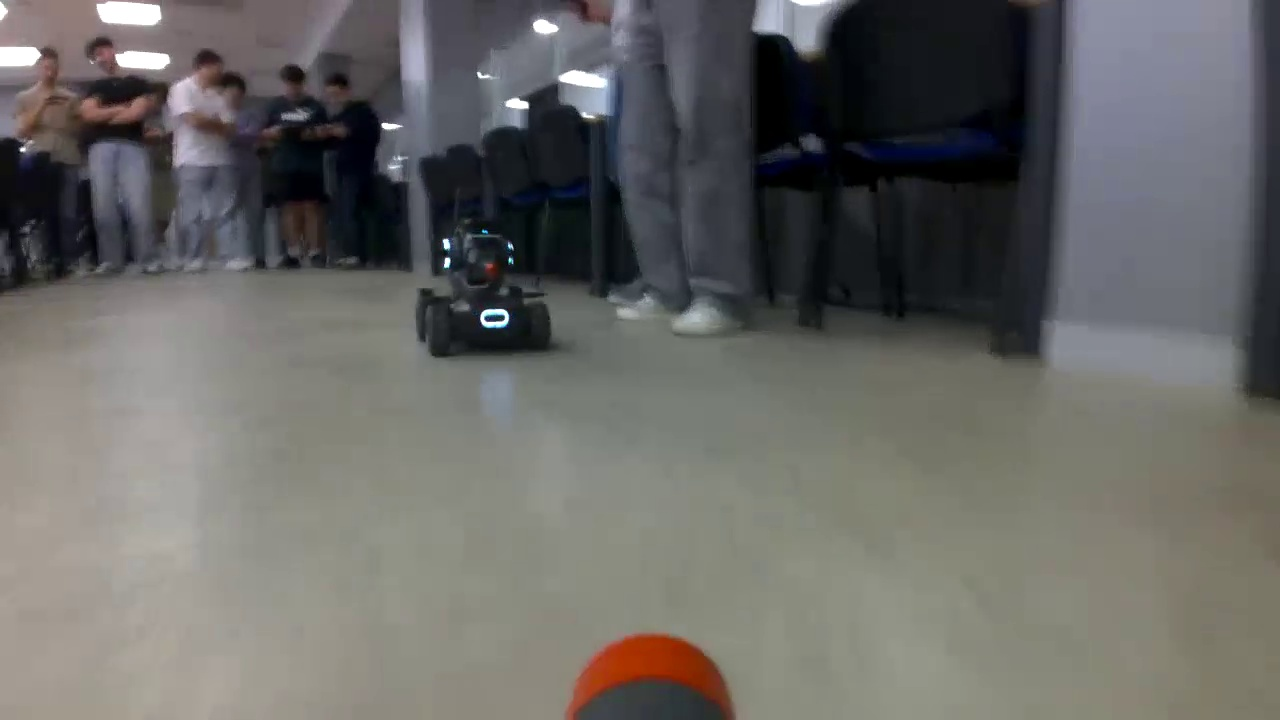robot: (415, 210, 552, 358)
